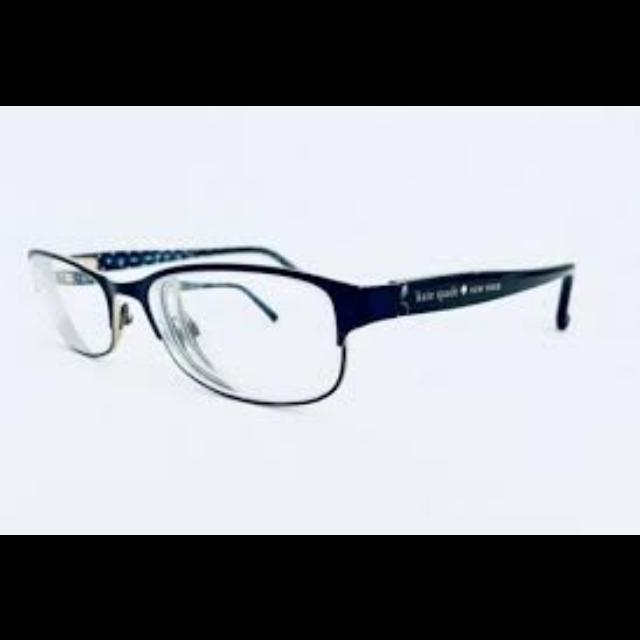mask: (24, 240, 578, 412)
